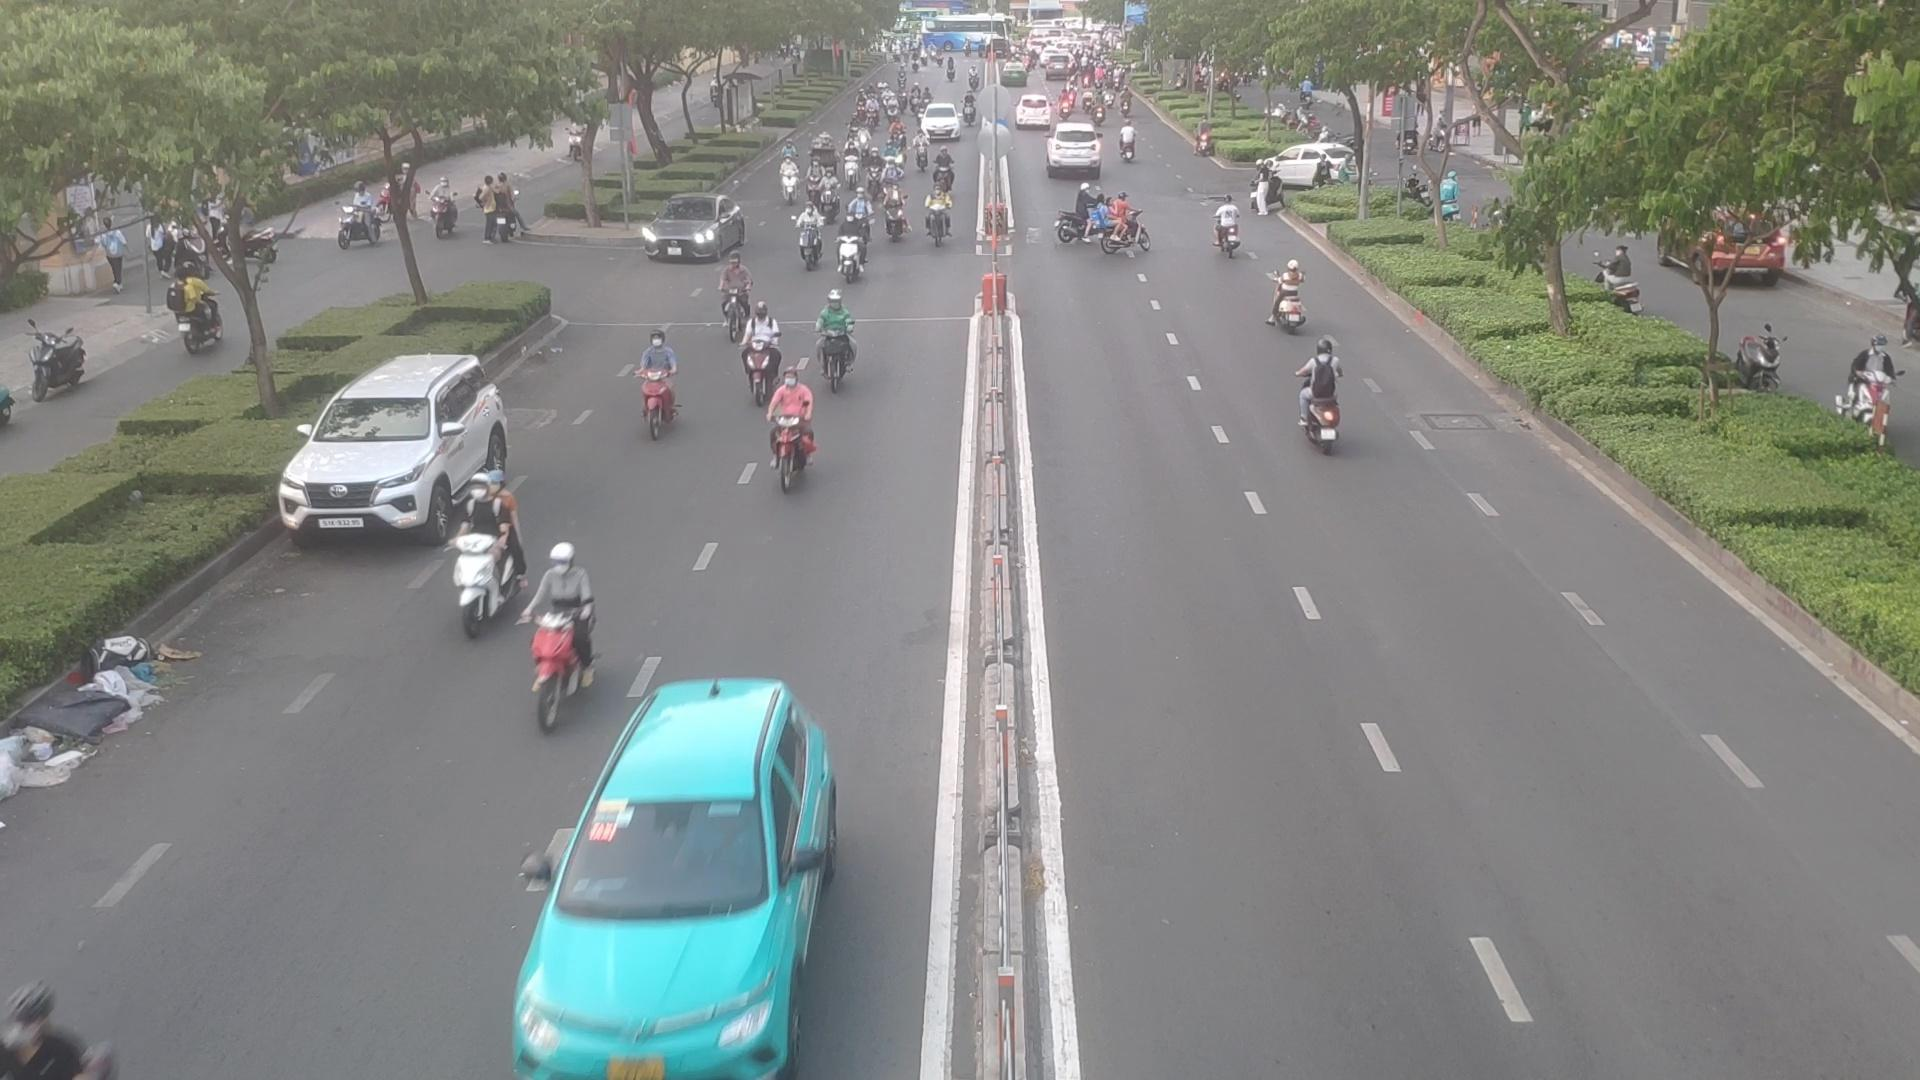car: (495, 651, 857, 1080), (280, 356, 513, 549), (636, 195, 748, 262), (1265, 142, 1365, 191), (1043, 124, 1106, 179)
motorbike: (517, 541, 607, 723), (448, 467, 520, 659), (767, 371, 820, 500), (638, 323, 687, 447), (814, 280, 857, 390), (742, 309, 785, 404), (1302, 334, 1335, 448), (1092, 193, 1154, 252), (1269, 260, 1309, 342), (719, 253, 749, 345), (833, 210, 869, 282), (1058, 186, 1098, 243), (1213, 193, 1241, 272), (796, 204, 818, 265), (1118, 119, 1138, 174), (928, 189, 945, 251), (820, 169, 840, 222), (847, 190, 872, 231), (932, 145, 957, 183), (884, 183, 899, 243), (806, 156, 823, 203), (782, 156, 798, 204), (843, 142, 858, 182), (869, 146, 880, 195), (914, 133, 926, 166), (885, 138, 895, 173), (857, 125, 869, 149)
